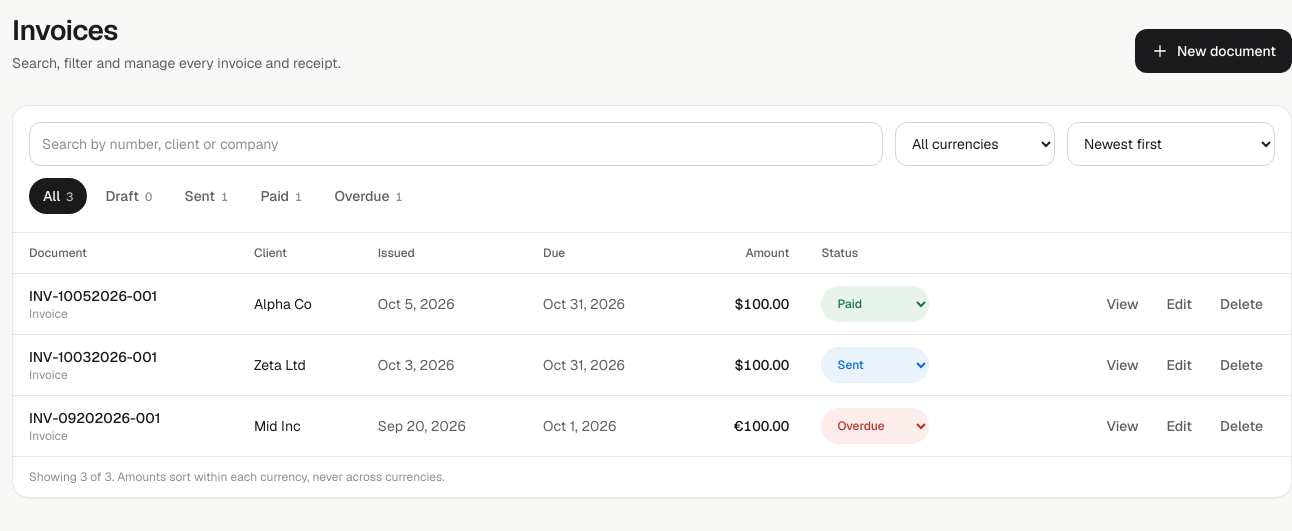
Test case: InvoiceListView › filters by search text and by status, and can clear
This screenshot has width=1292, height=531.
Expected: the table is shown, x1=13 y1=233 x2=1291 y2=456
Type "alpha" into the search field named "Search documents". click: (456, 144)
box: x1=29 y1=122 x2=883 y2=166
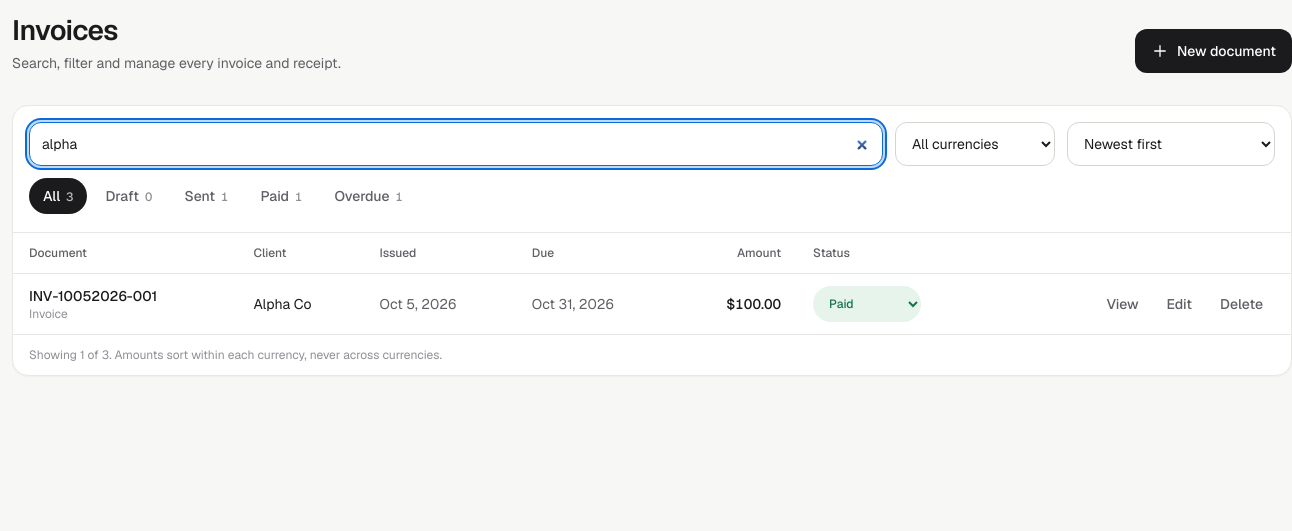
Expected: the number of rows is 2, x1=13 y1=233 x2=1291 y2=274; x1=13 y1=274 x2=1291 y2=334
Clear the search field named "Search documents". click: (456, 144)
box: x1=29 y1=122 x2=883 y2=166
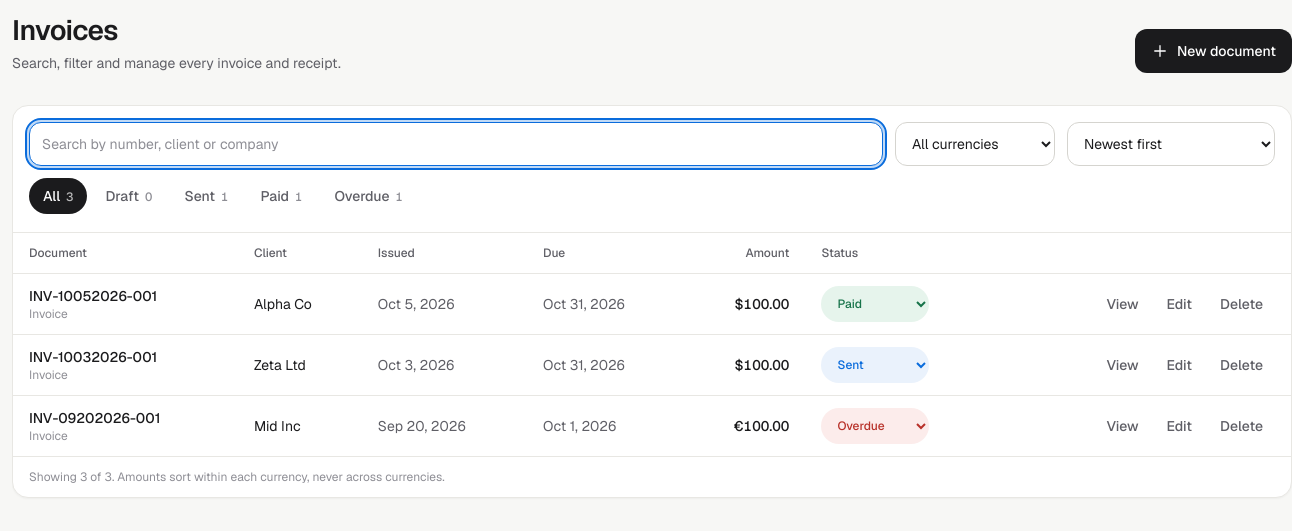
Click the button "Paid1". click: (282, 196)
box: x1=246 y1=178 x2=316 y2=214
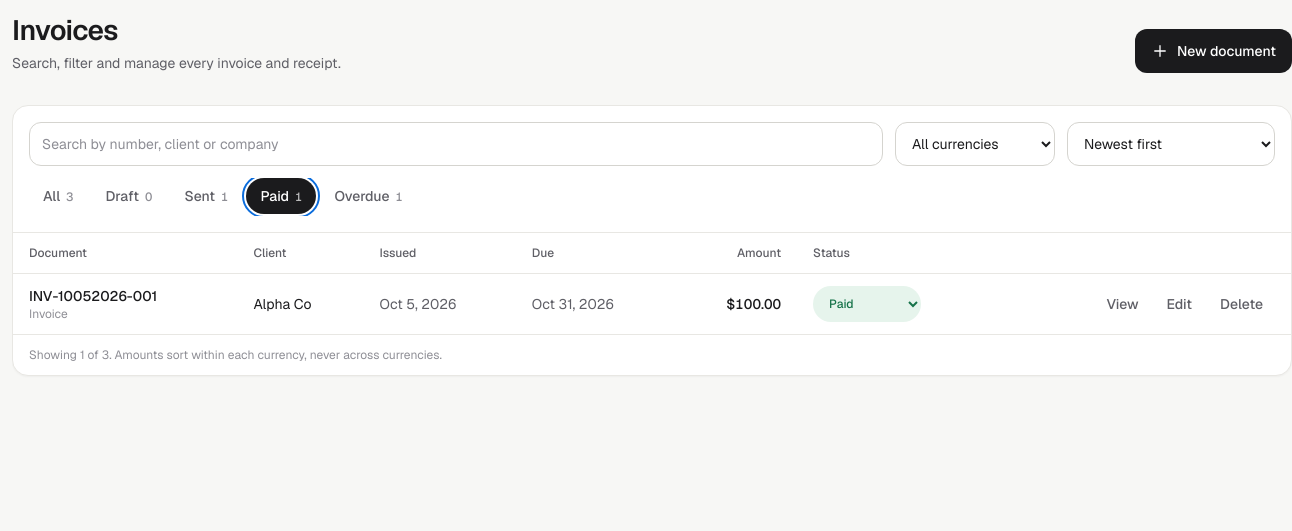
Expected: the row that starts with "INV-10052026-001" shows "Alpha Co", x1=254 y1=295 x2=311 y2=313
Type "zzz" into the search field named "Search documents". click: (456, 144)
box: x1=29 y1=122 x2=883 y2=166
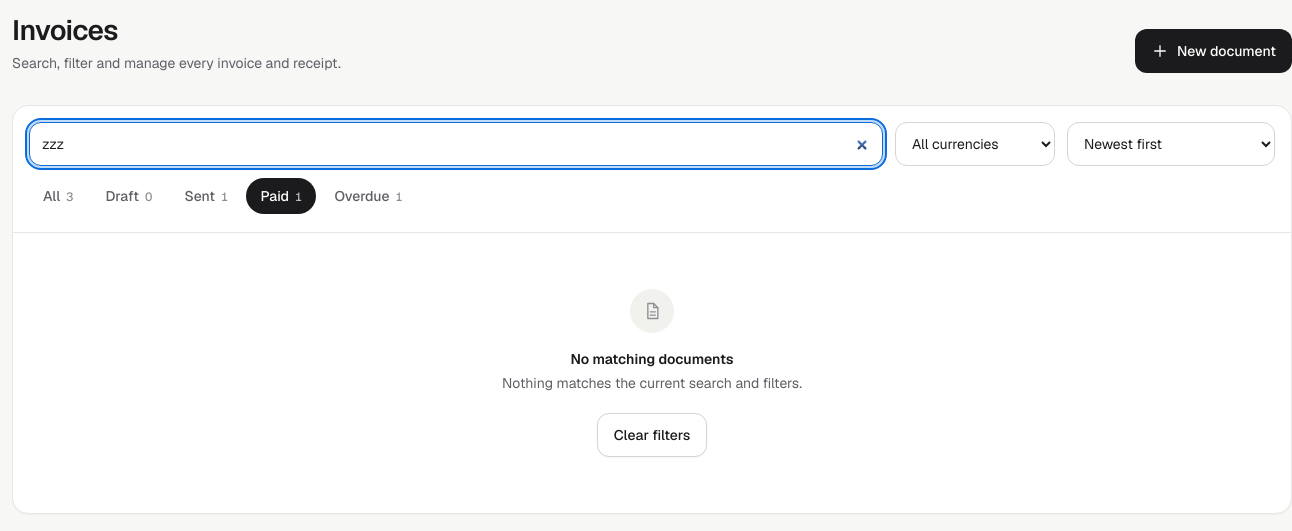
Expected: the heading "No matching documents" is shown, x1=570 y1=349 x2=734 y2=369
Click the button "Clear filters". click: (652, 435)
box: x1=597 y1=413 x2=707 y2=457
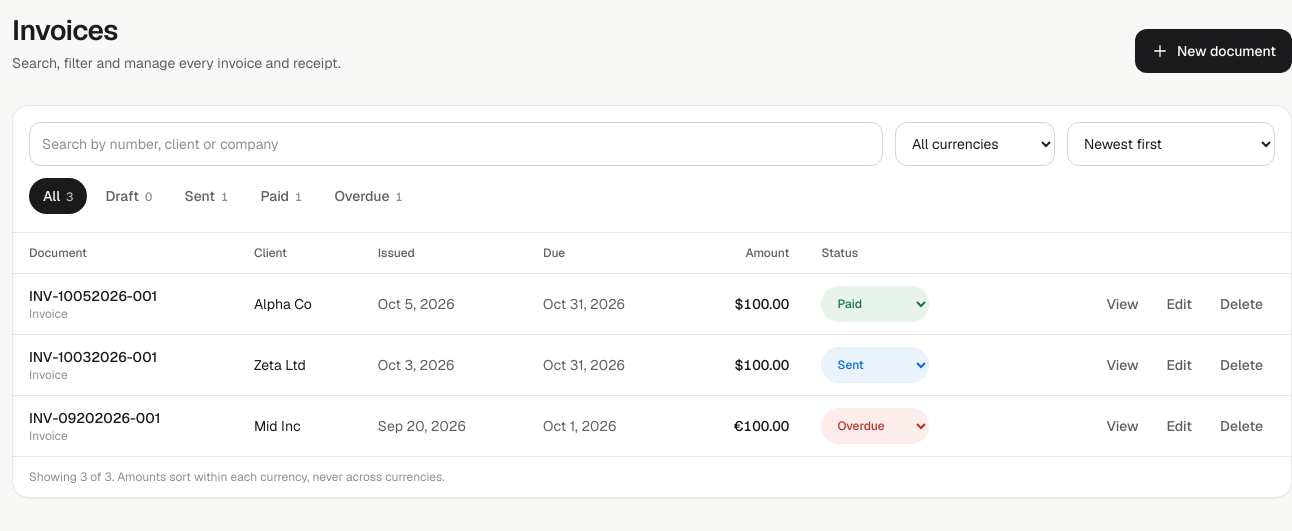
Expected: the number of rows is 4, x1=13 y1=233 x2=1291 y2=274; x1=13 y1=274 x2=1291 y2=335; x1=13 y1=335 x2=1291 y2=396; x1=13 y1=396 x2=1291 y2=456
